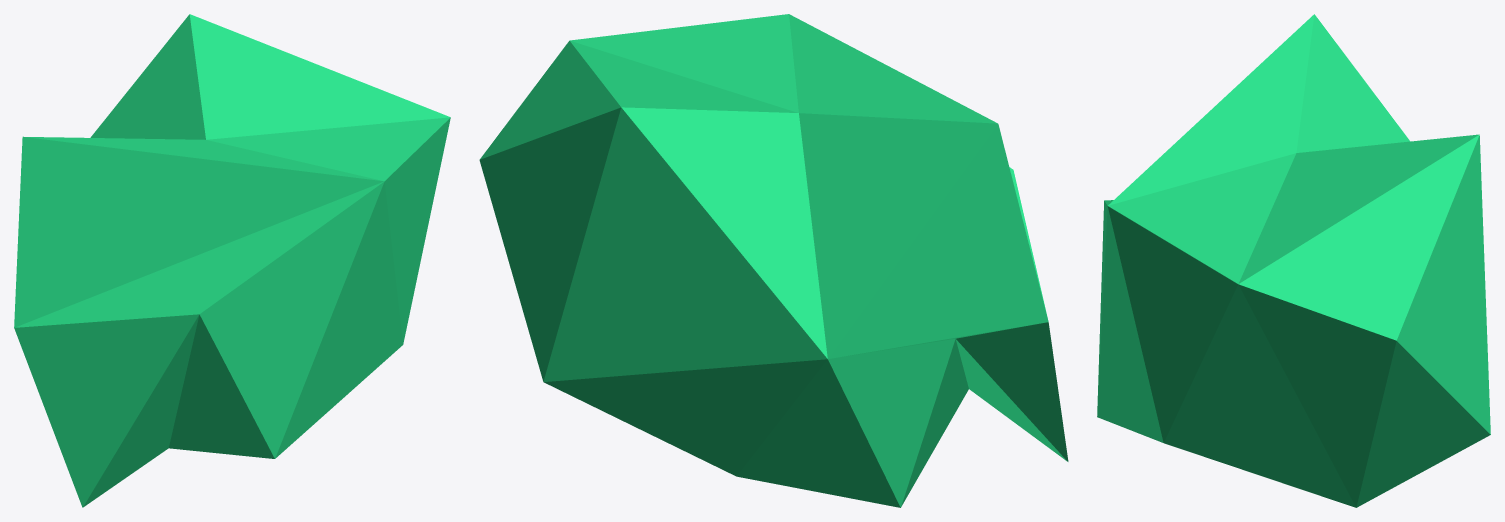
File: latajacy_krysztal.fbx
The picture shows the model from 3 angles, left to right: view 1: azimuth 30°, elevation 25°; view 2: azimuth 150°, elevation 25°; view 3: azimuth 270°, elevation 25°; orthographic projection. The views are drawn at different scales.
Visible parts, largest first — view 1: fragmenty_krysztalu; view 2: fragmenty_krysztalu; view 3: fragmenty_krysztalu.
Boxes of the visible parts, <box> form: fragmenty_krysztalu: <box>14,14,450,507</box>; fragmenty_krysztalu: <box>479,14,1068,507</box>; fragmenty_krysztalu: <box>1097,14,1490,507</box>.
Bounding box in the file's own units: 64.94 × 49.4 × 47.17.
